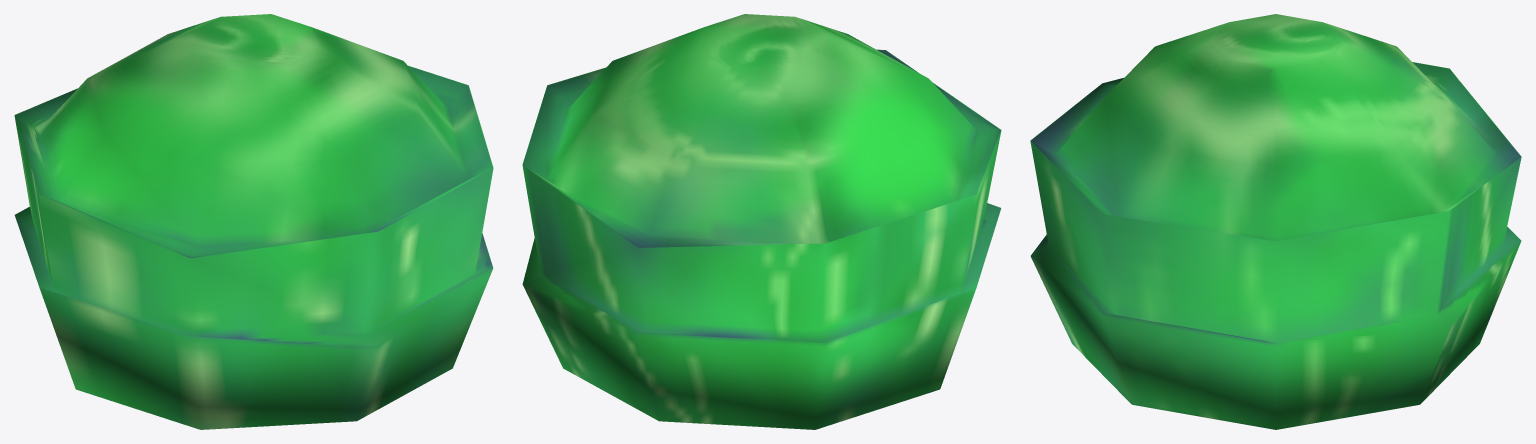
Rendered from Repolho.fbx.
The picture shows the model from 3 angles, left to right: view 1: azimuth 30°, elevation 25°; view 2: azimuth 150°, elevation 25°; view 3: azimuth 270°, elevation 25°; orthographic projection.
Parts seen in each view (by area): view 1: Repolho; view 2: Repolho; view 3: Repolho.
Boxes of the visible parts, x1,y1,x2,y2 form: Repolho: [14, 14, 493, 429]; Repolho: [522, 14, 1001, 429]; Repolho: [1030, 14, 1521, 429].
Size of the model in its own units: 80.47 by 62.16 by 80.47.
